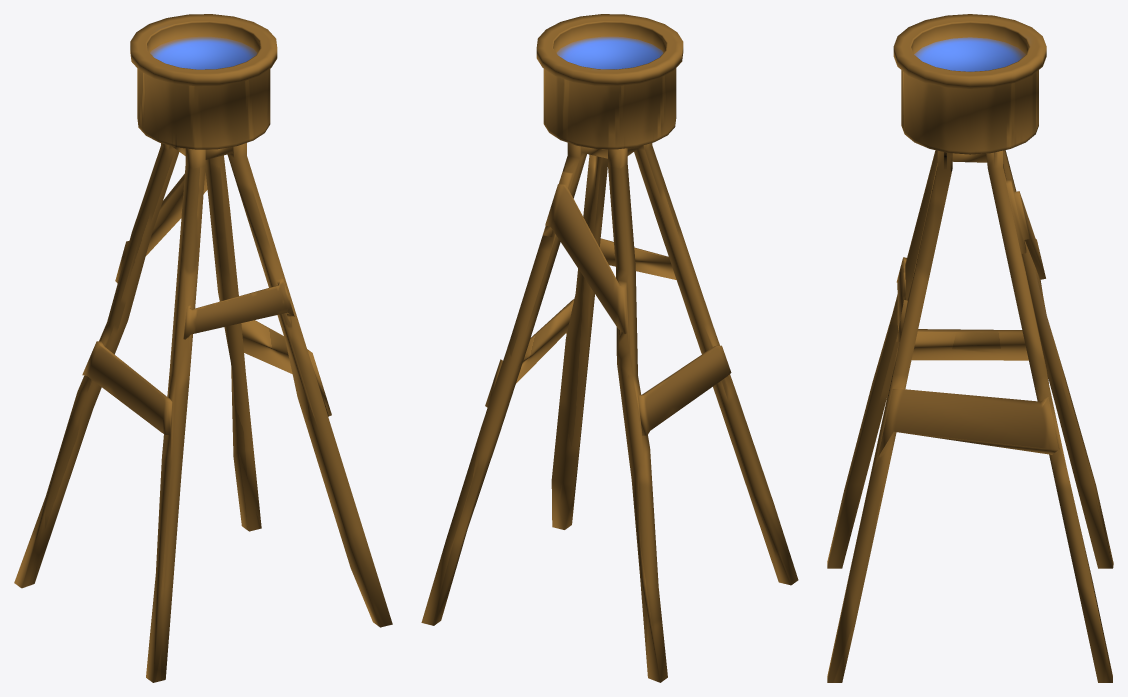
The model's file is water tower.obj.
3 views of the same model, side by side, from view 1: azimuth 30°, elevation 25°; view 2: azimuth 150°, elevation 25°; view 3: azimuth 270°, elevation 25° (orthographic). The views are drawn at different scales.
Parts seen in each view (by area): view 1: Cube.001; view 2: Cube.001; view 3: Cube.001.
Part boxes in pixels (left/top/right/bottom): Cube.001: left=14, top=14, right=392, bottom=682; Cube.001: left=421, top=14, right=798, bottom=682; Cube.001: left=827, top=14, right=1113, bottom=682.
Size of the model in its own units: 10.72 by 23.89 by 10.73.
1 material, 1 textured.
